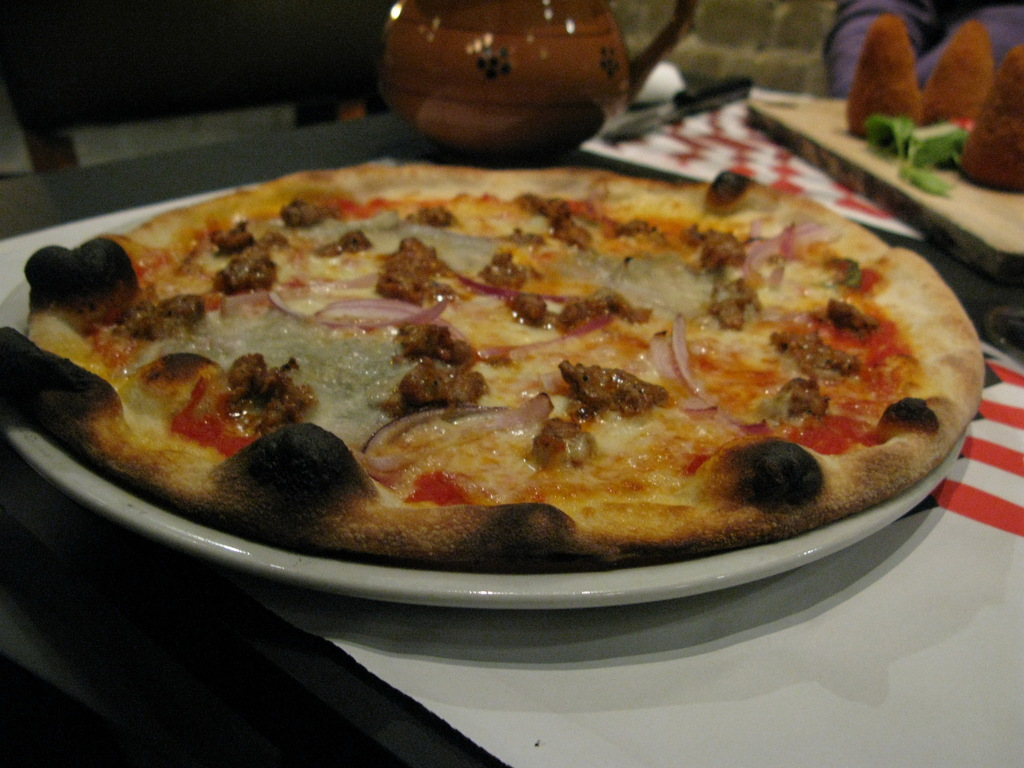pizza: (3, 160, 983, 557)
